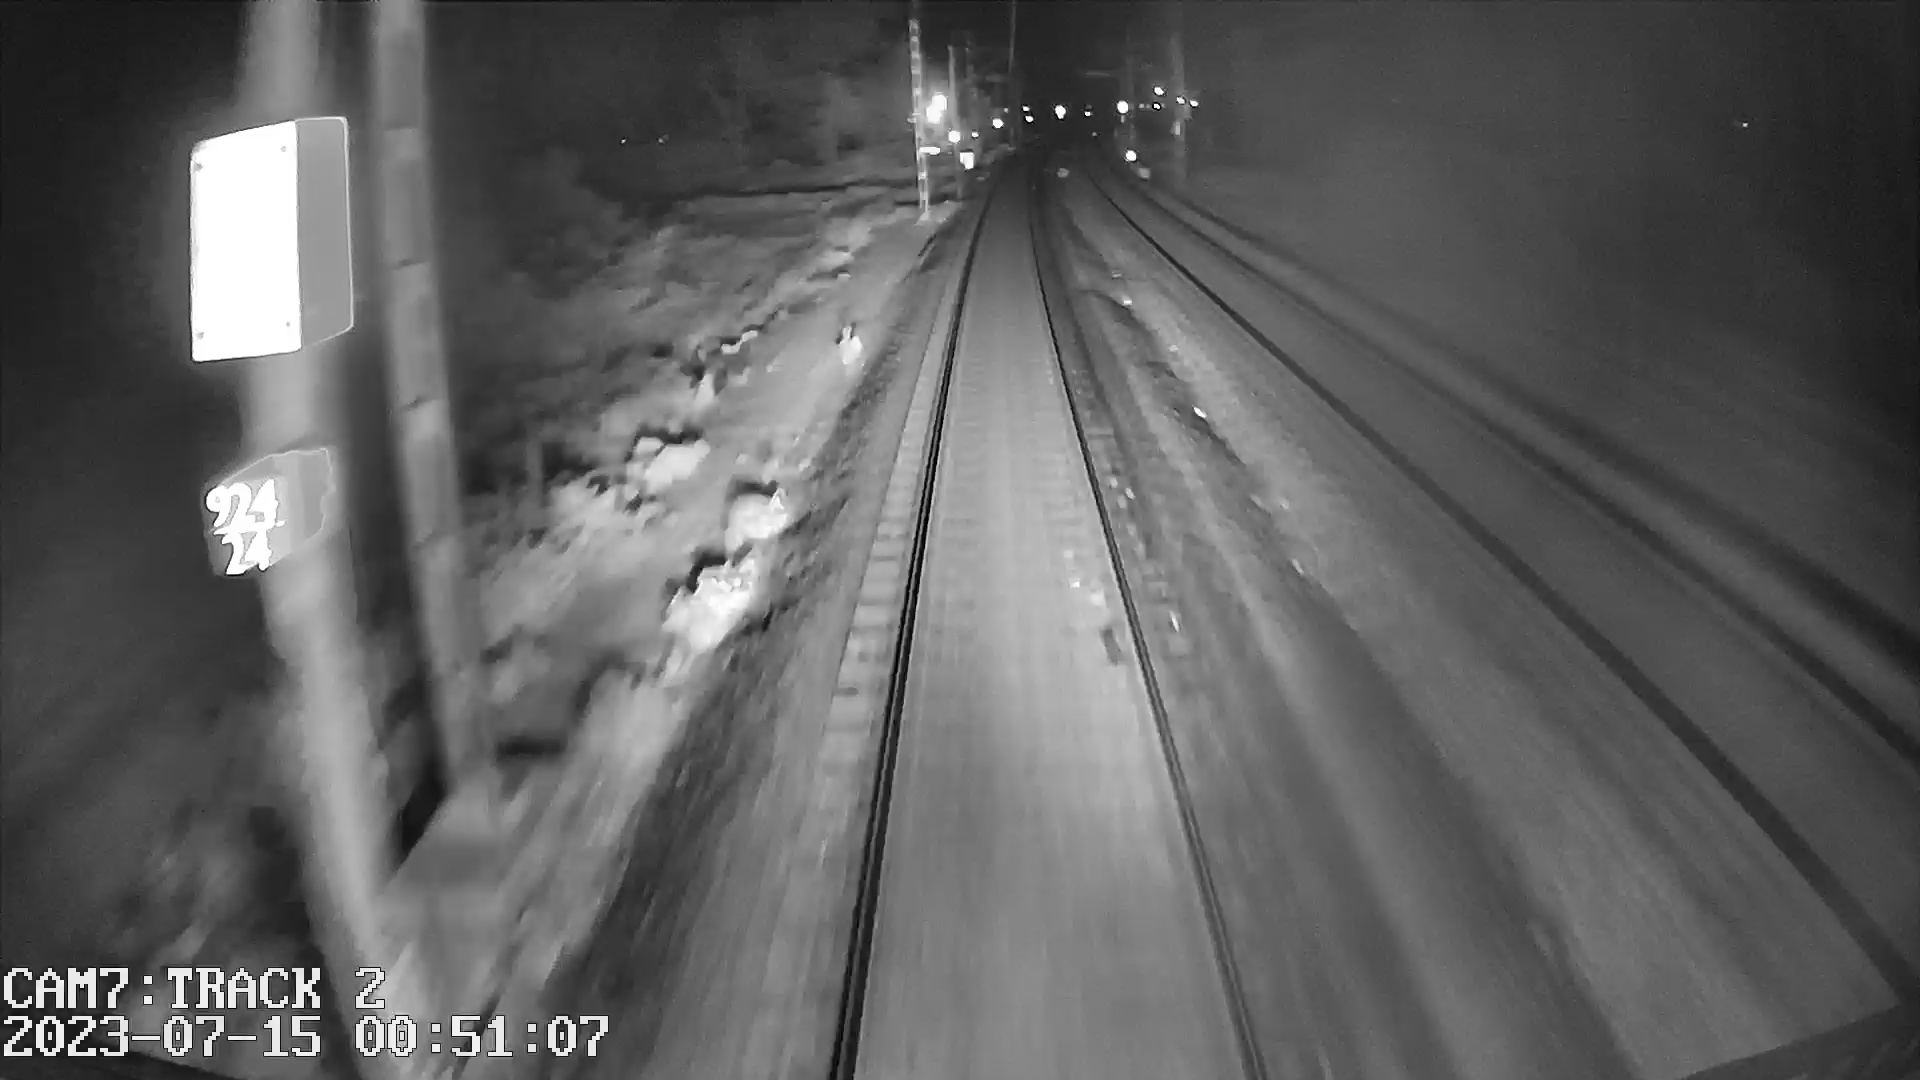track1: (844, 196, 1253, 1061)
track2: (1116, 201, 1916, 891)
